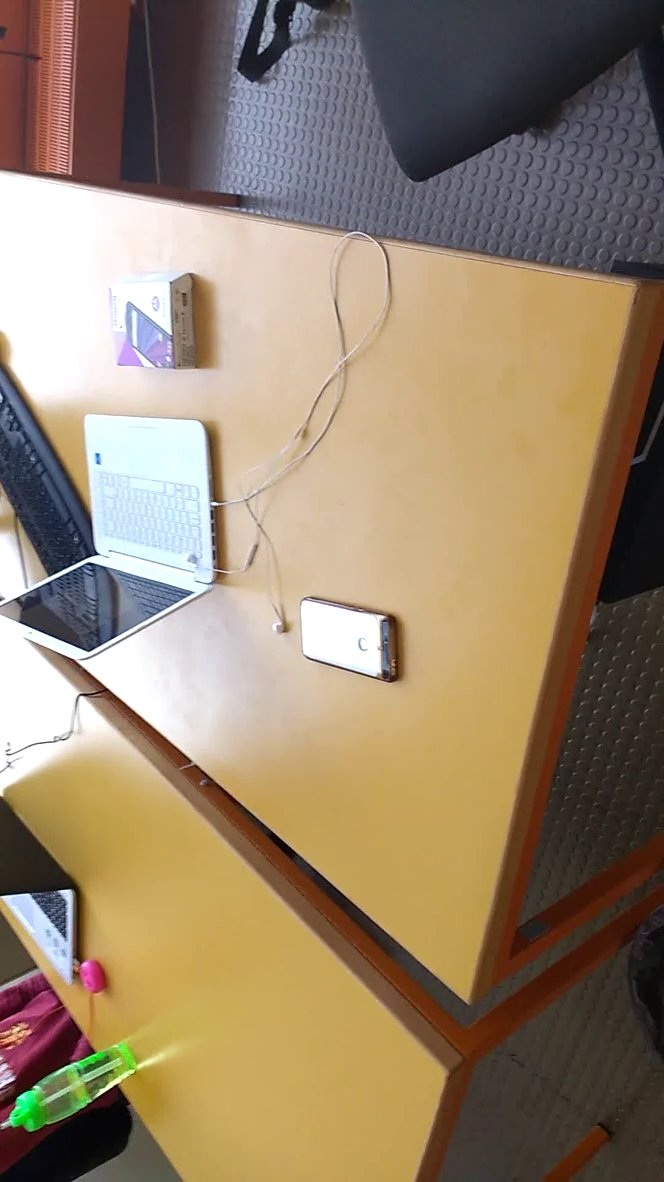laptop: (1, 405, 237, 675)
phone: (296, 585, 407, 695)
